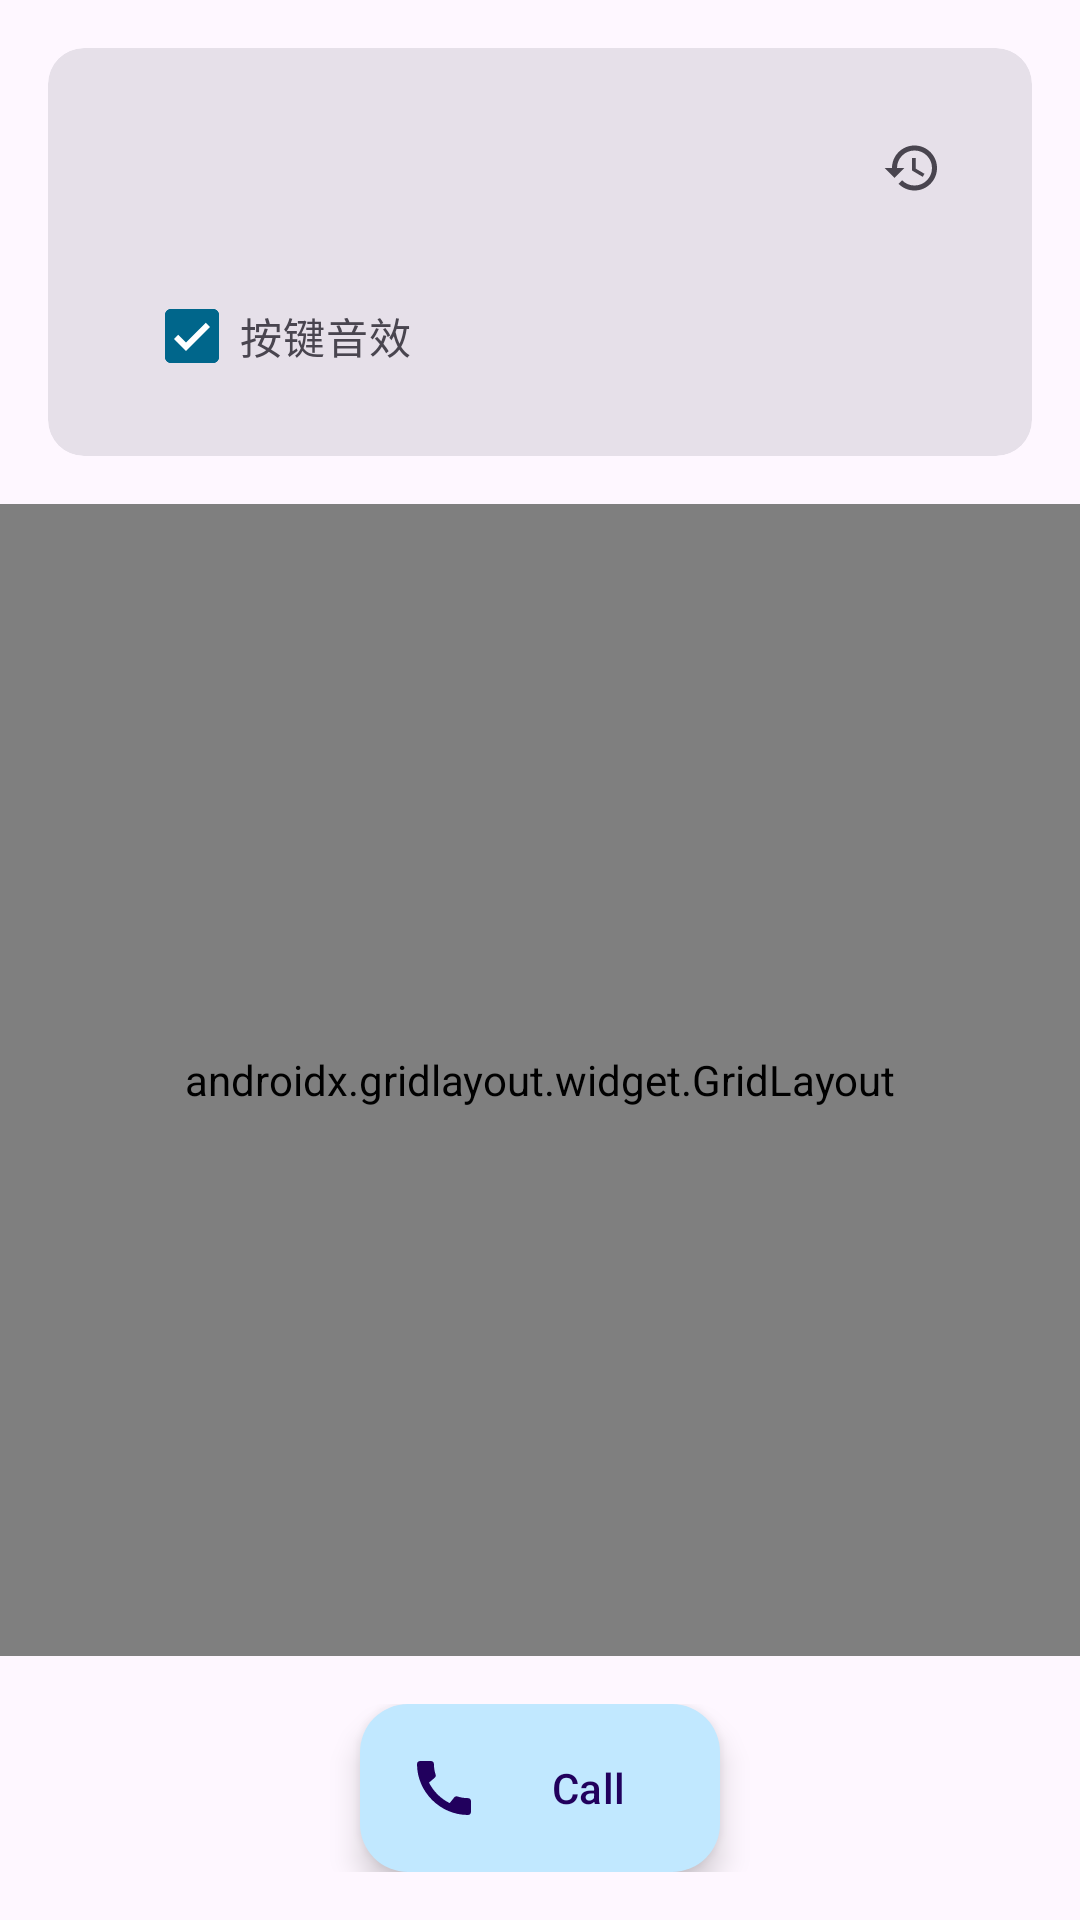

Icons on this 1080*1920 Android screen, each with the point to tap as point (x, y):
history: point (911, 168)
